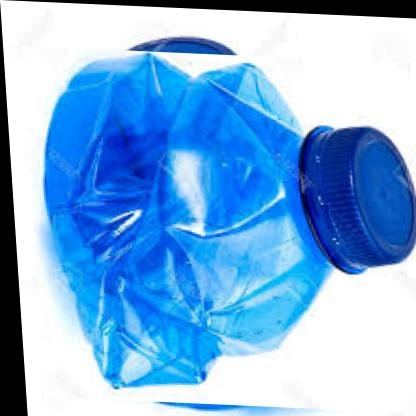trash: (45, 37, 415, 387)
